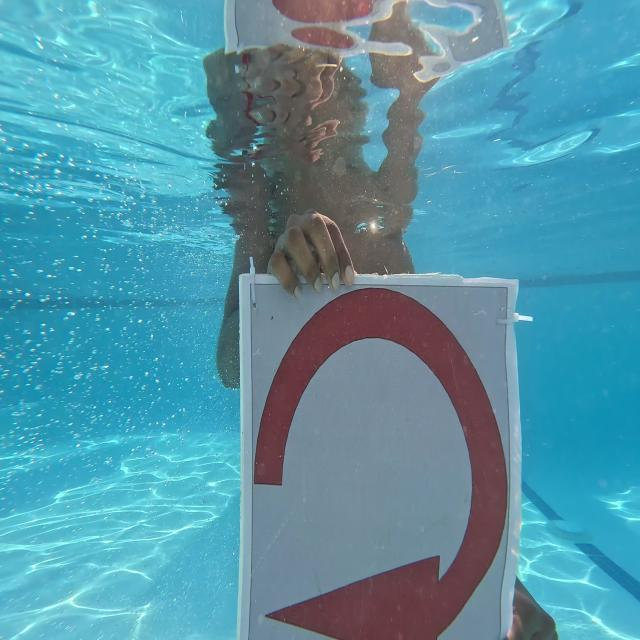red_side: (244, 265, 528, 640)
